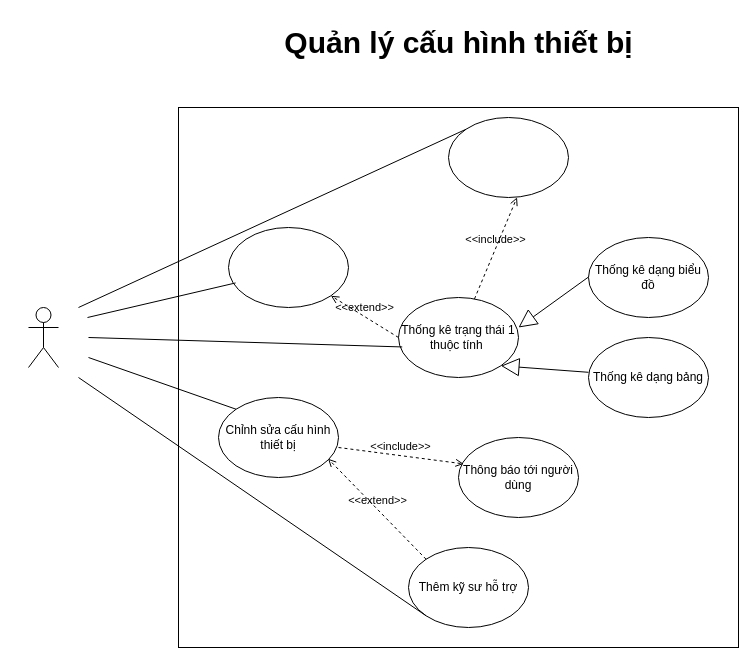
Some shapes in this 756 by 665 pixel diagram are drawn without their labels. Each missing label, with the centre of its shape:
Customer: (x=43, y=337)
Giám sát trạng thái thiết bị: (x=288, y=267)
Lọc theo khoảng thời gian: (x=508, y=157)
